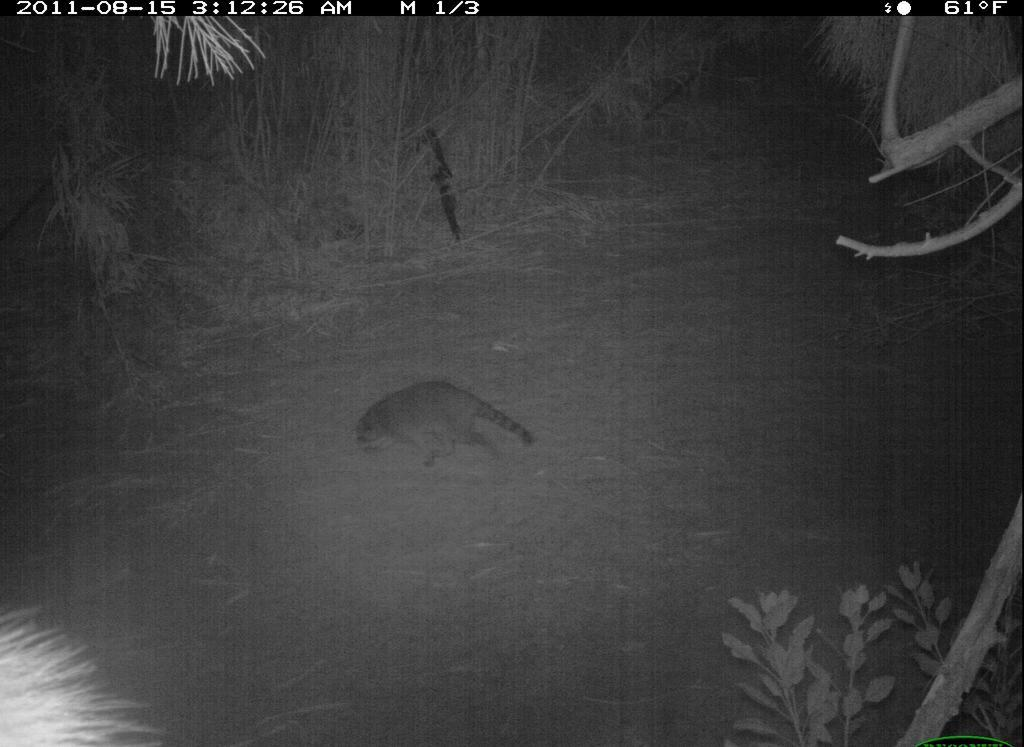raccoon: (347, 373, 543, 479)
